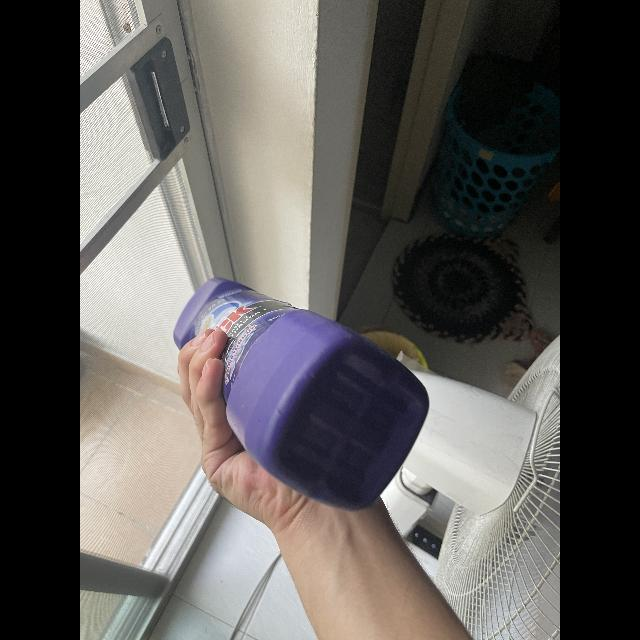chemical_plastic_bottle: (172, 274, 432, 514)
